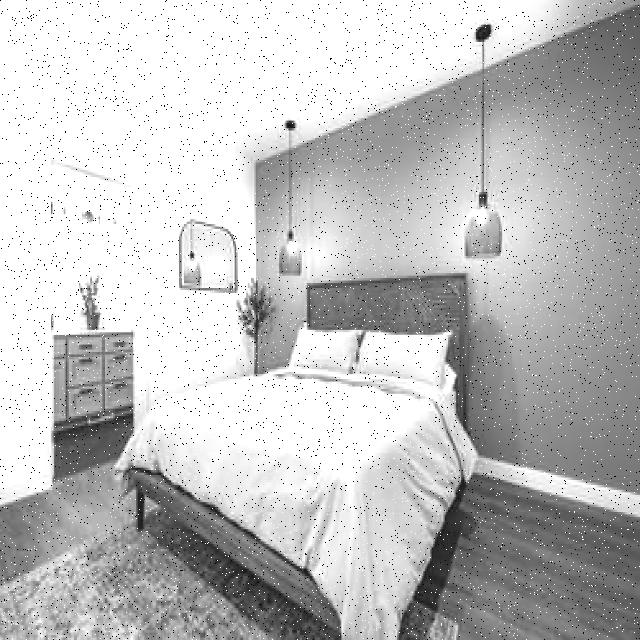bed: (155, 277, 466, 613)
